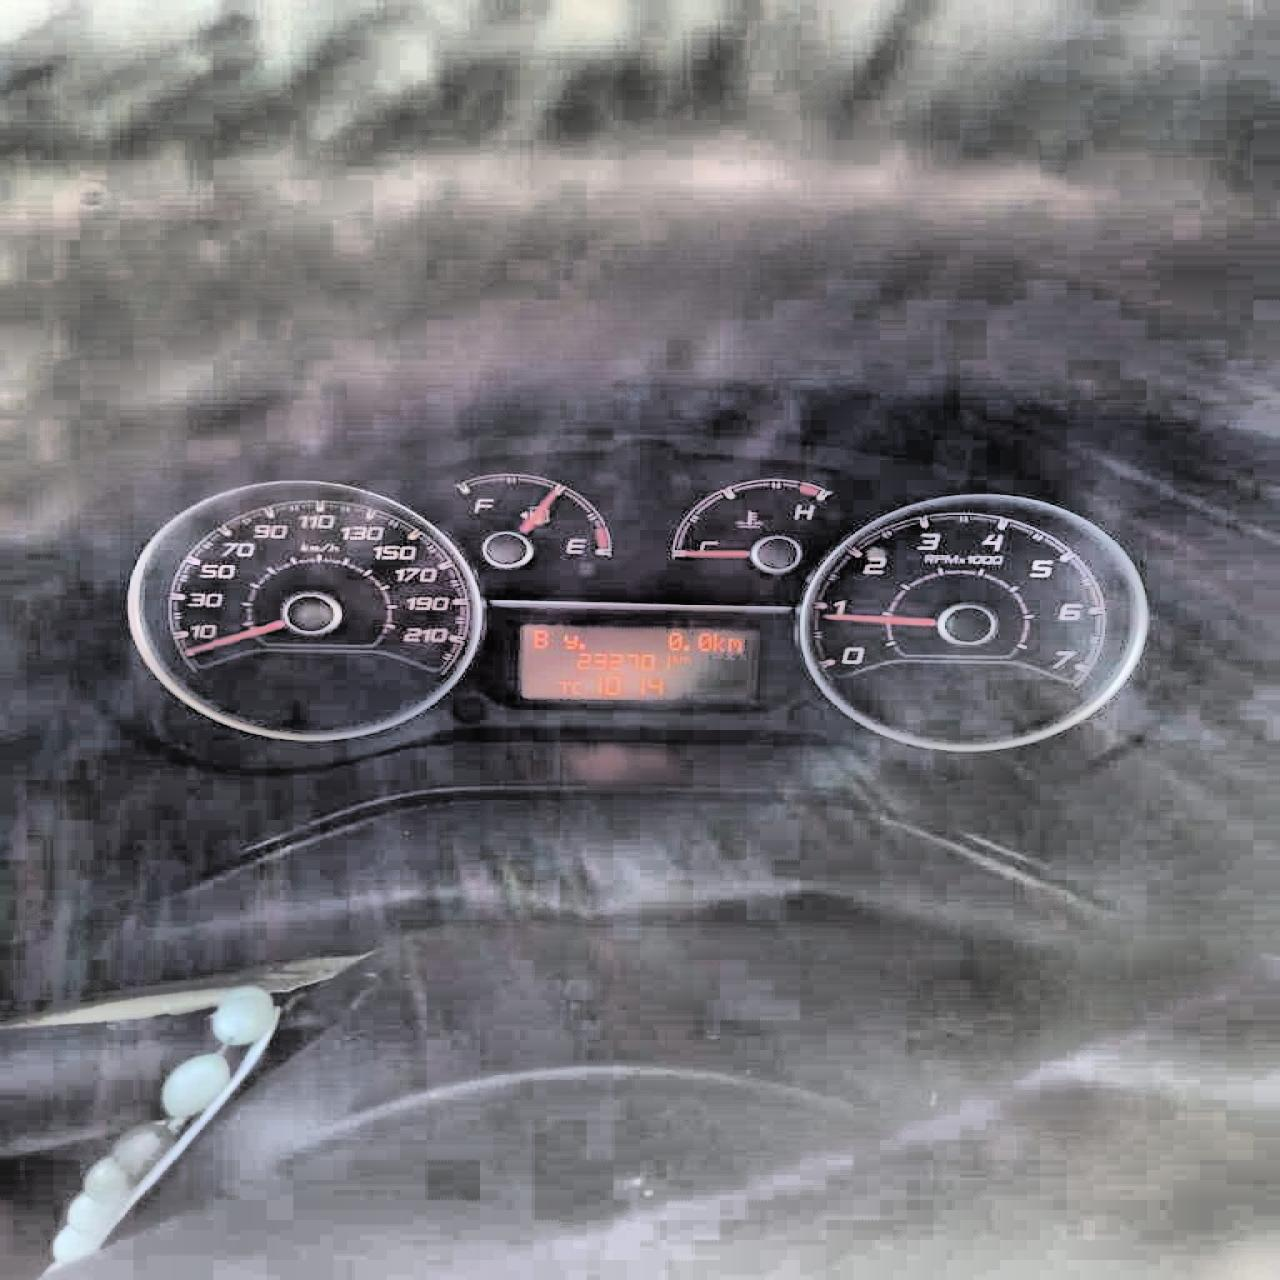-: (680, 641, 690, 651), (577, 641, 585, 651)
0: (601, 674, 620, 696), (663, 628, 680, 652), (695, 629, 712, 651), (639, 651, 655, 670)
1: (635, 675, 645, 696), (593, 675, 601, 695)
2: (607, 651, 625, 670), (573, 652, 592, 669)
3: (592, 651, 606, 670)
4: (645, 675, 667, 697)
7: (625, 651, 639, 670), (554, 678, 568, 694)
X: (530, 627, 549, 648), (558, 632, 577, 648), (712, 629, 726, 651), (724, 636, 743, 652), (570, 678, 580, 695), (663, 653, 675, 667), (676, 654, 692, 663)
odometer: (503, 619, 770, 709)
